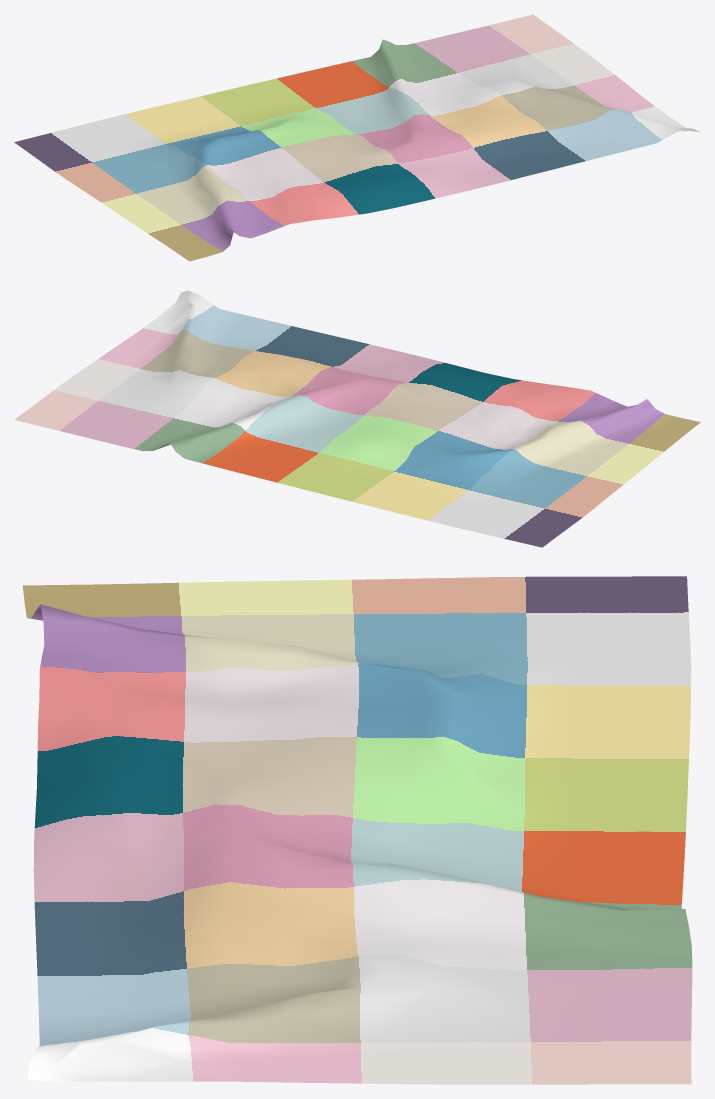
File: SM_Rug.fbx
The picture shows the model from 3 angles, top to bottom: view 1: azimuth 30°, elevation 25°; view 2: azimuth 150°, elevation 25°; view 3: azimuth 270°, elevation 25°; orthographic projection. The views are drawn at different scales.
Visible parts, largest first — view 1: Retopo_SM_Rug; view 2: Retopo_SM_Rug; view 3: Retopo_SM_Rug.
Boxes of the visible parts, x1=… form: Retopo_SM_Rug: x1=14, y1=14, x2=700, y2=261; Retopo_SM_Rug: x1=14, y1=290, x2=700, y2=547; Retopo_SM_Rug: x1=22, y1=576, x2=692, y2=1084.
Size of the model in its own units: 7324 by 193 by 4068.
